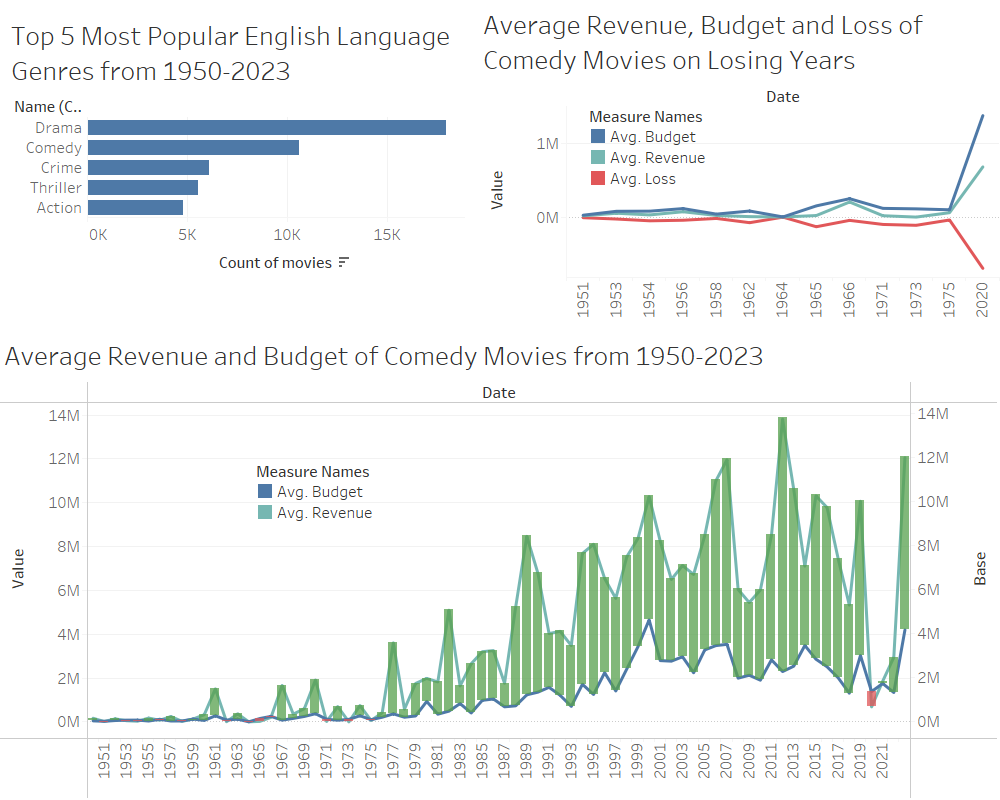

This screenshot's page, from the dashboard's own definition file:
{"tool":"tableau","page":{"name":"FirstDashboard","canvas":[1000,800],"ordinal":0},"visuals":[{"type":"worksheet","title":"ProfitLosingYearsComedy","mark":"Automatic","cols":["date"],"box":[479,1,520,336]},{"type":"worksheet","title":"Top5GenreMovieCount","mark":"Automatic","rows":["name (category_names)"],"cols":["movies_6E521EA192A649868493A3ABE829CBDE"],"box":[7,12,457,313]},{"type":"legend","title":"ProfitLosingYearsComedy","param":"[federated.1gkqgxa1726bgf1016mvu08lnnts].[:Measure Names]","box":[588,104,162,87]},{"type":"worksheet","title":"ProfitComedy1950-2023","mark":"Automatic","rows":["Calculation_1821424622534377478"],"cols":["date"],"box":[0,332,999,467]},{"type":"legend","title":"ProfitComedy1950-2023","param":"[federated.1gkqgxa1726bgf1016mvu08lnnts].[:Measure Names]","box":[255,459,140,64]}]}

Visuals, with their boxes in screenshot pixels (x1, y1, x2, y2), scaled from the page's 1000x800 canvas onto the 1000x800 screenshot:
"ProfitLosingYearsComedy" worksheet: (left=479, top=1, right=999, bottom=337)
"Top5GenreMovieCount" worksheet: (left=7, top=12, right=464, bottom=325)
"ProfitLosingYearsComedy" legend: (left=588, top=104, right=750, bottom=191)
"ProfitComedy1950-2023" worksheet: (left=0, top=332, right=999, bottom=799)
"ProfitComedy1950-2023" legend: (left=255, top=459, right=395, bottom=523)
